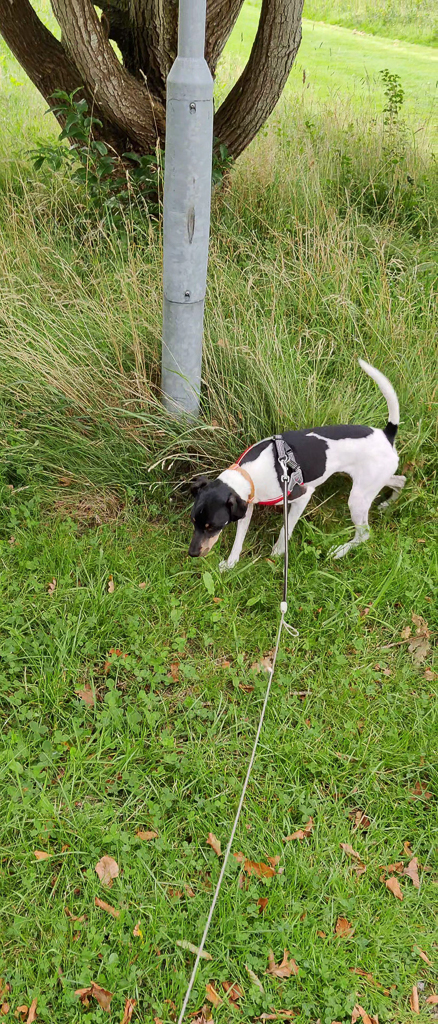Dog: (166, 350, 422, 585)
